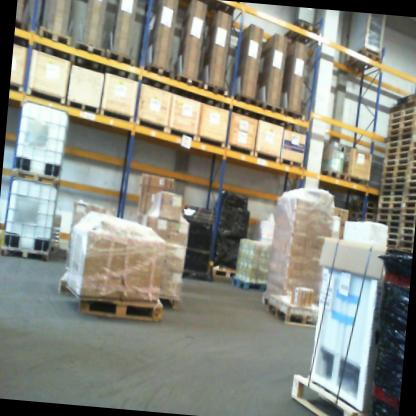pallet: (58, 283, 167, 325), (283, 367, 371, 416), (266, 293, 321, 334), (33, 23, 74, 64), (71, 36, 109, 78), (343, 45, 389, 78), (1, 241, 50, 269), (103, 45, 139, 81), (282, 18, 322, 46), (140, 57, 172, 90), (229, 89, 263, 117), (198, 78, 227, 109), (177, 265, 213, 288), (229, 277, 271, 295), (173, 72, 201, 99), (161, 290, 190, 314), (259, 294, 285, 320), (259, 99, 284, 122), (318, 166, 348, 185), (208, 266, 238, 284), (282, 104, 304, 128), (385, 128, 416, 145), (389, 104, 416, 121), (388, 112, 416, 128), (387, 122, 416, 137), (388, 116, 416, 131), (345, 206, 373, 219), (354, 198, 378, 209), (355, 221, 372, 233)
